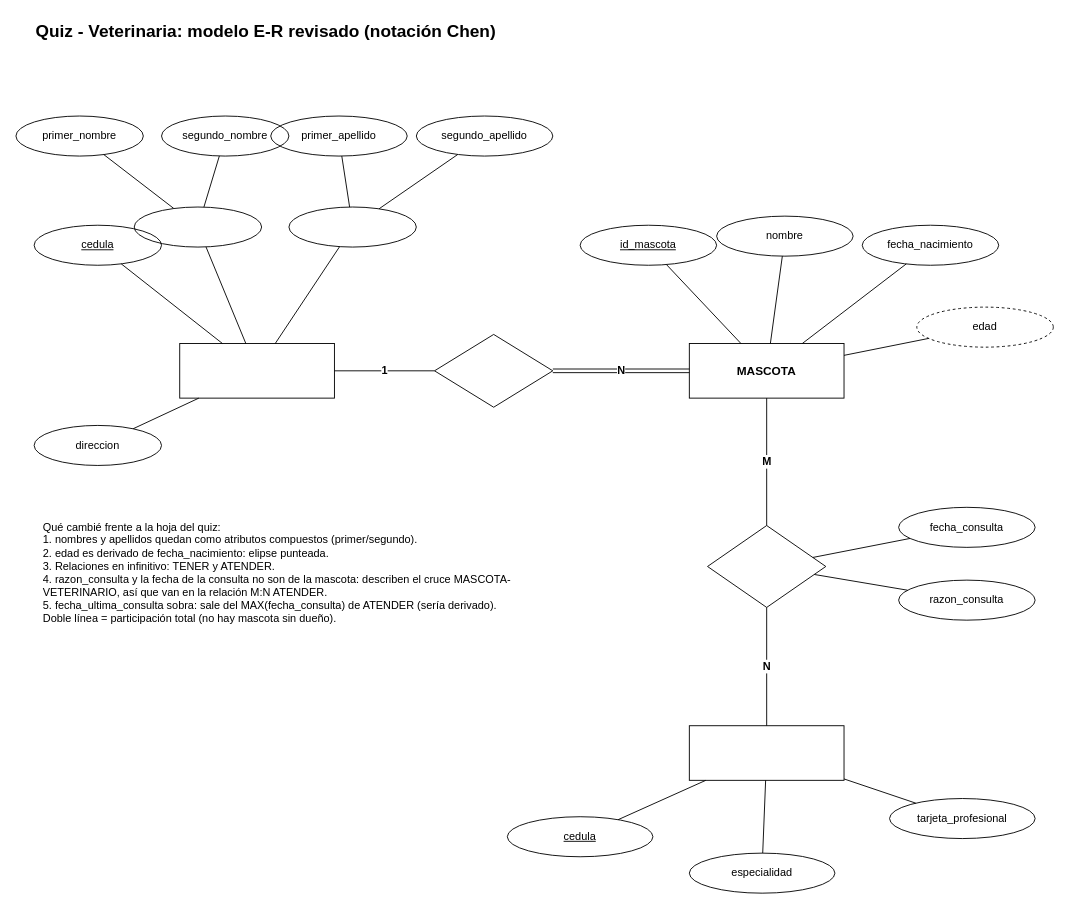
Some shapes in this 1069 by 909 pixel diagram are drawn without their labels. The centre of each missing label's shape, as x and y in pixels:
apellidos: point (352, 226)
ATENDER: point (766, 566)
DUEÑO: point (256, 370)
nombres: point (197, 226)
TENER: point (493, 370)
VETERINARIO: point (766, 752)
